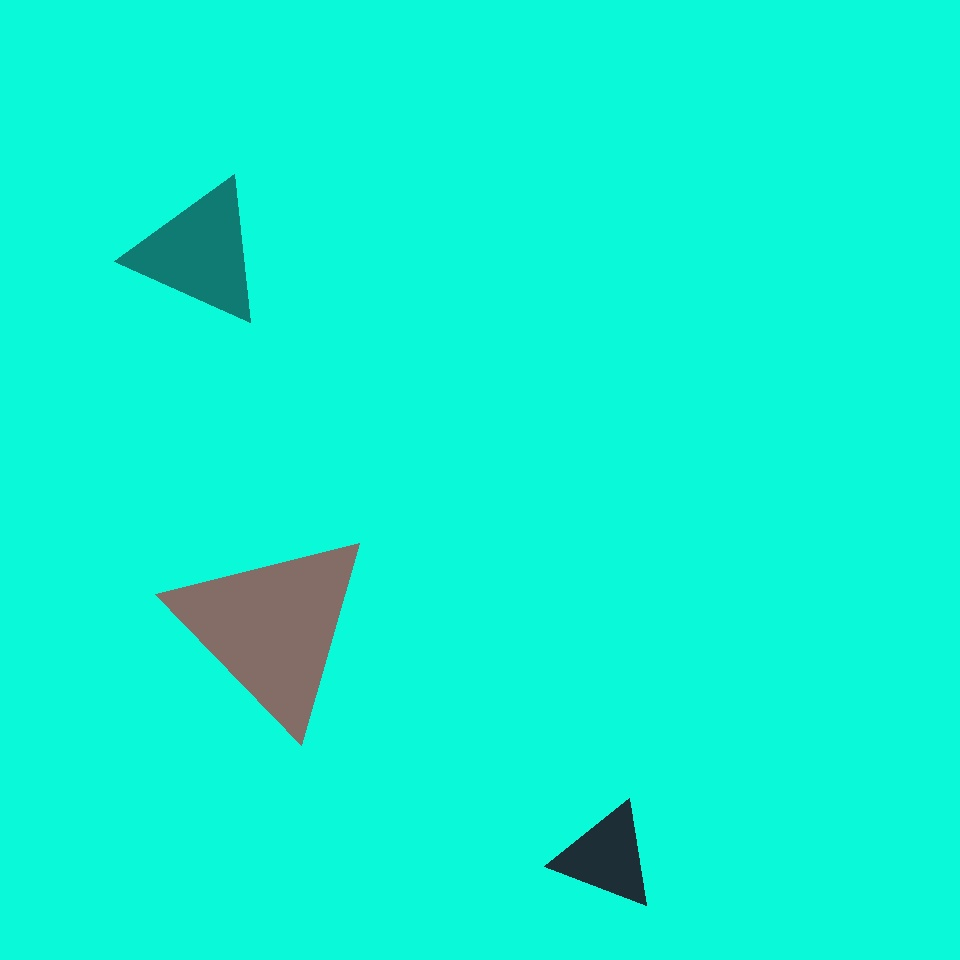circle: (170, 527, 374, 729), (36, 365, 213, 564), (192, 686, 357, 834), (132, 179, 268, 327), (556, 804, 658, 910)
square: (180, 168, 435, 423)
triangle: (124, 14, 233, 124)
